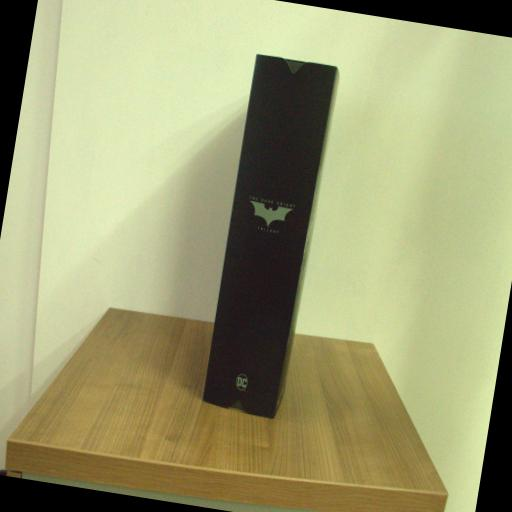catwoman: (200, 54, 341, 420)
